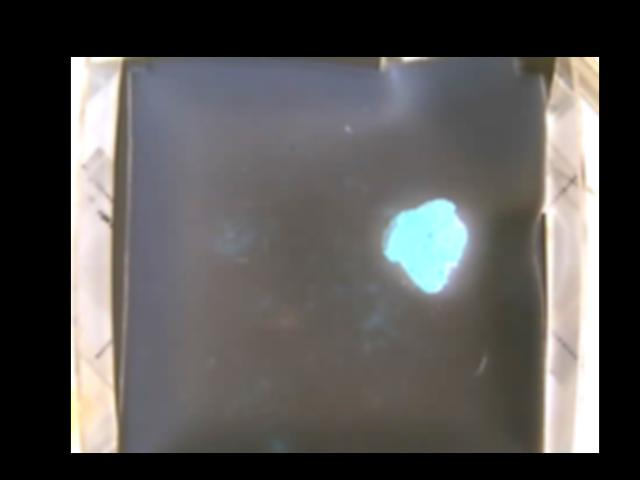Brisk: (383, 198, 468, 291)
